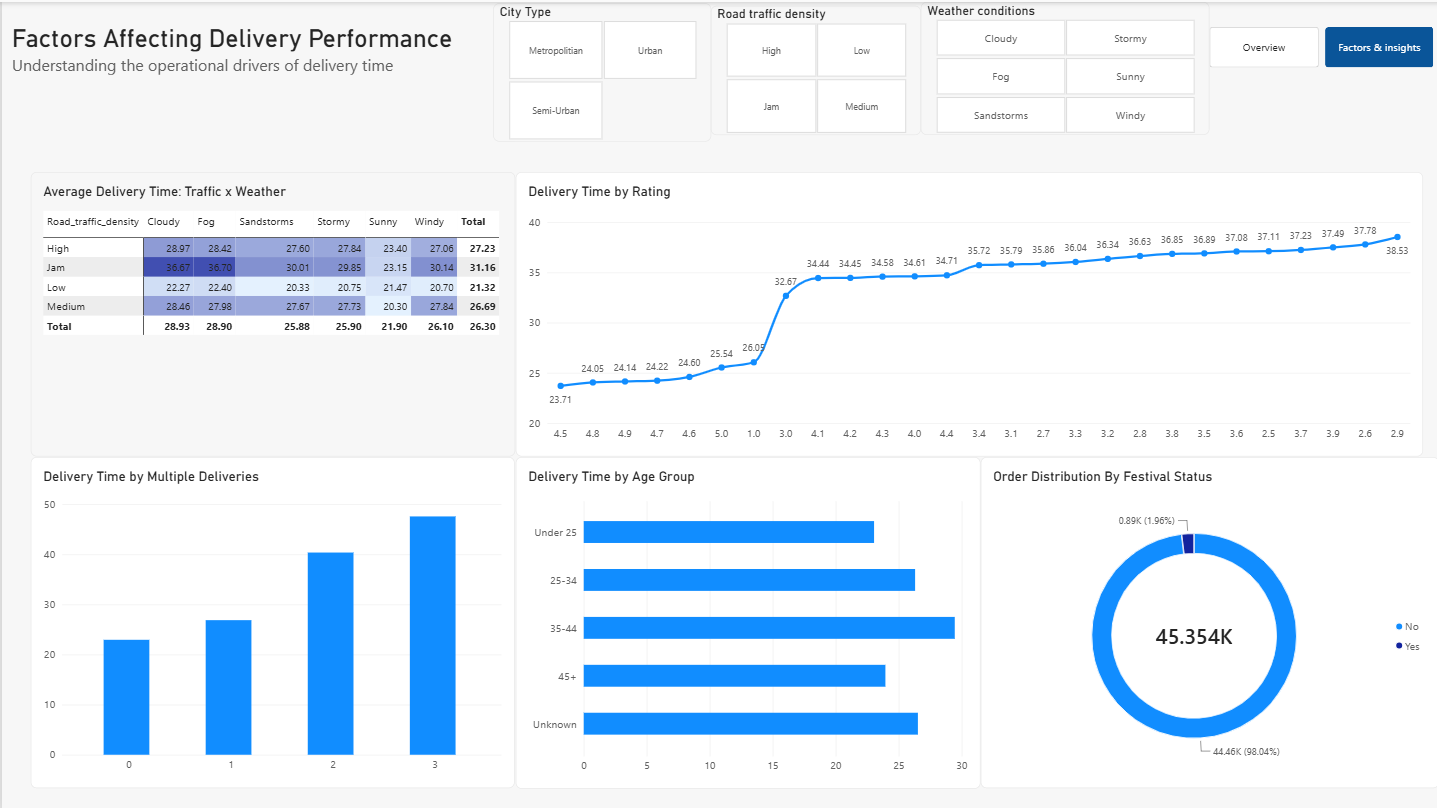

The dashboard page shown, as its layout file describes it:
{"tool":"powerbi","page":{"name":"Factors & insights","canvas":[1920,1080],"ordinal":1},"visuals":[{"type":"pivotTable","title":"Average Delivery Time: Traffic x Weather","fields":{"Columns":["zomato_delivery_final.Weather_conditions"],"Rows":["zomato_delivery_final.Road_traffic_density"],"Values":["Avg(zomato_delivery_final.Time_taken_min)"]},"box":[38.4,226.7,647.1,380.2],"z":0},{"type":"clusteredColumnChart","title":"Delivery Time by Multiple Deliveries","fields":{"Category":["zomato_delivery_final.multiple_deliveries"],"Y":["Avg(zomato_delivery_final.Time_taken_min)"]},"box":[39.1,607.2,646.3,442.5],"z":1000},{"type":"lineChart","title":"Delivery Time by Rating","fields":{"Category":["zomato_delivery_final.Delivery_person_Ratings"],"Y":["Avg(zomato_delivery_final.Time_taken_min)"]},"box":[685.5,226.7,1212.2,380.2],"z":2000},{"type":"clusteredBarChart","title":"Delivery Time by Age Group","fields":{"Category":["zomato_delivery_final.Age Group"],"Y":["Avg(zomato_delivery_final.Time_taken_min)"]},"box":[685.5,607,620.9,443],"z":3000},{"type":"donutChart","title":"Order Distribution By Festival Status","fields":{"Category":["zomato_delivery_final.Festival"],"Y":["CountNonNull(zomato_delivery_final.ID)"]},"box":[1307,607.2,613.4,442.5],"z":4000},{"type":"slicer","fields":{"Values":["zomato_delivery_final.City"]},"box":[655.8,1.7,291.3,184.9],"z":5000},{"type":"slicer","fields":{"Values":["zomato_delivery_final.Road_traffic_density"]},"box":[947.1,5.2,280.8,172.7],"z":6000},{"type":"slicer","fields":{"Values":["zomato_delivery_final.Weather_conditions"]},"box":[1227.9,0,385.5,177.9],"z":7000},{"type":"textbox","title":"Factors Affecting Delivery Performance","box":[14,27.9,641.9,120.3],"z":8000},{"type":"pageNavigator","box":[1613.4,33.1,300,54.1],"z":9000}]}

Visuals, with their boxes in screenshot pixels (x1, y1, x2, y2), scaled from the page's 1920x1080 canvas onto the 1437x808 screenshot:
"Average Delivery Time: Traffic x Weather" pivotTable: [left=29, top=170, right=513, bottom=454]
"Delivery Time by Multiple Deliveries" clusteredColumnChart: [left=29, top=454, right=513, bottom=785]
"Delivery Time by Rating" lineChart: [left=513, top=170, right=1420, bottom=454]
"Delivery Time by Age Group" clusteredBarChart: [left=513, top=454, right=978, bottom=786]
"Order Distribution By Festival Status" donutChart: [left=978, top=454, right=1436, bottom=785]
slicer - zomato_delivery_final.City: [left=491, top=1, right=709, bottom=140]
slicer - zomato_delivery_final.Road_traffic_density: [left=709, top=4, right=919, bottom=133]
slicer - zomato_delivery_final.Weather_conditions: [left=919, top=0, right=1208, bottom=133]
"Factors Affecting Delivery Performance" textbox: [left=10, top=21, right=491, bottom=111]
pageNavigator: [left=1208, top=25, right=1432, bottom=65]
